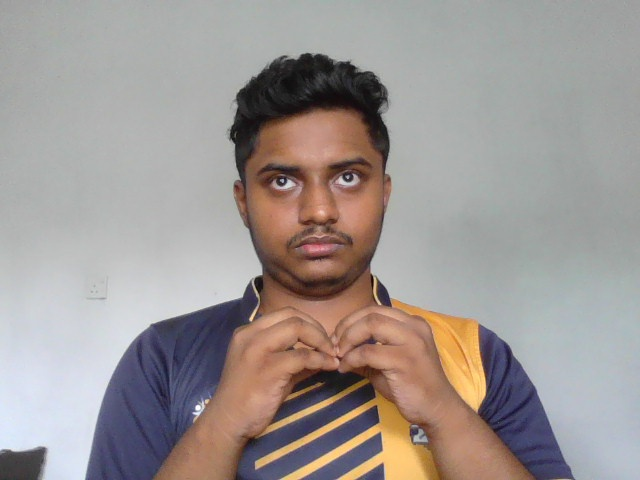More: (212, 305, 452, 432)
